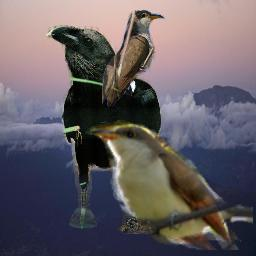Crow: (45, 25, 161, 234)
Cuckoo: (85, 112, 253, 250), (102, 10, 179, 107)
